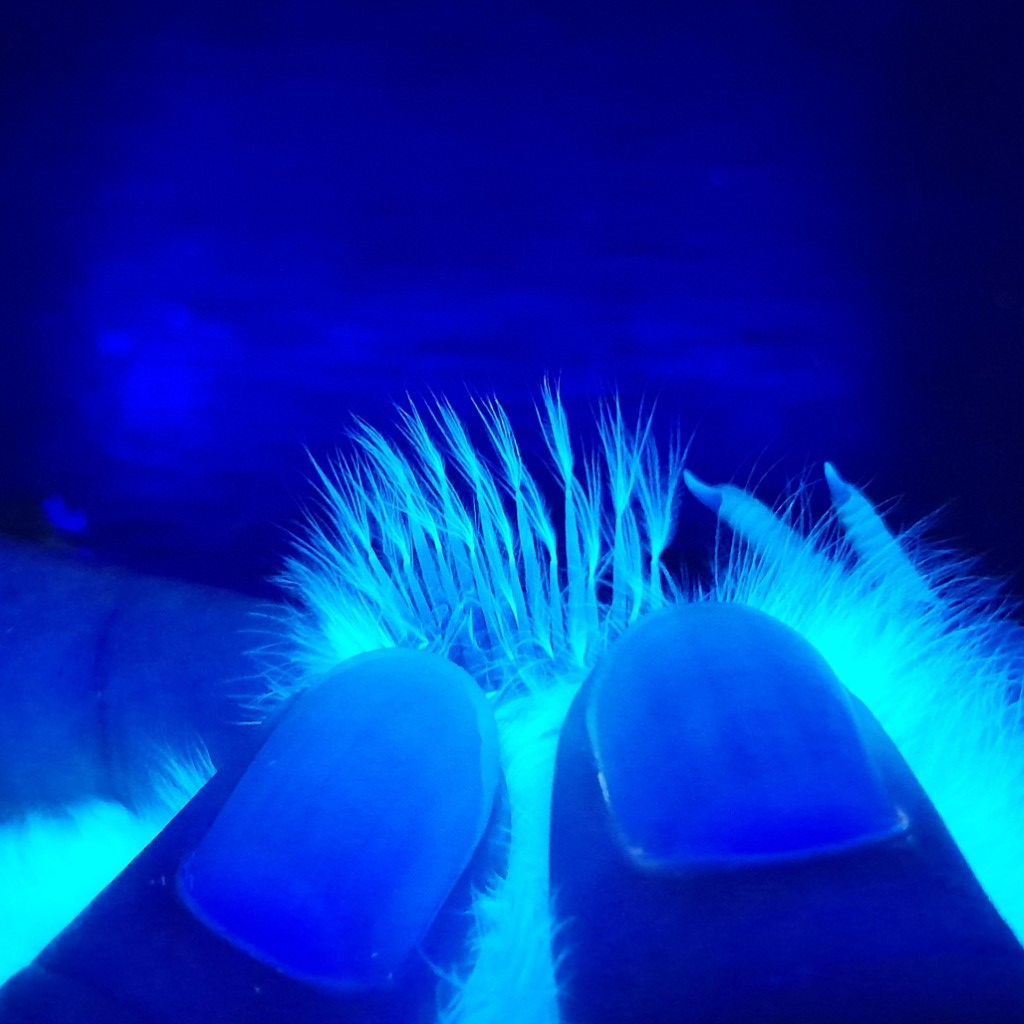female: (356, 469, 670, 726)
